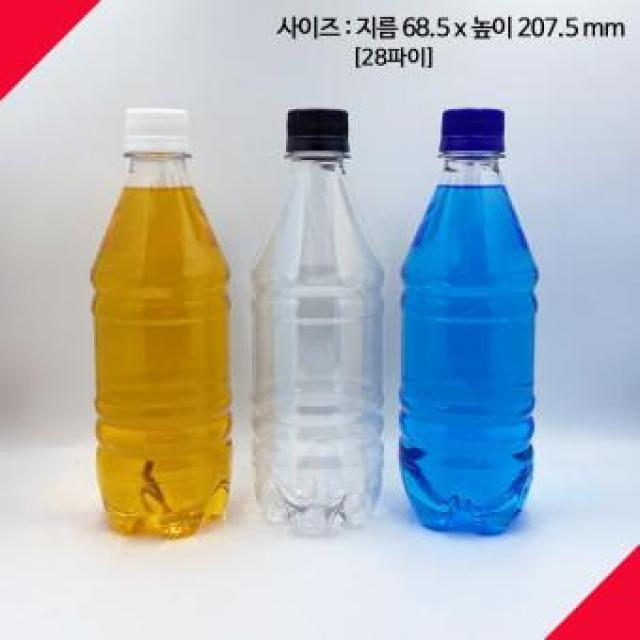bottle: (70, 93, 253, 560), (392, 102, 550, 557)
